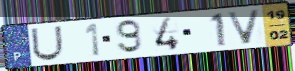1: (208, 12, 228, 48), (84, 22, 102, 57)
4: (153, 16, 181, 52)
9: (114, 19, 145, 56)
U: (30, 25, 65, 62)
V: (225, 8, 264, 46)
